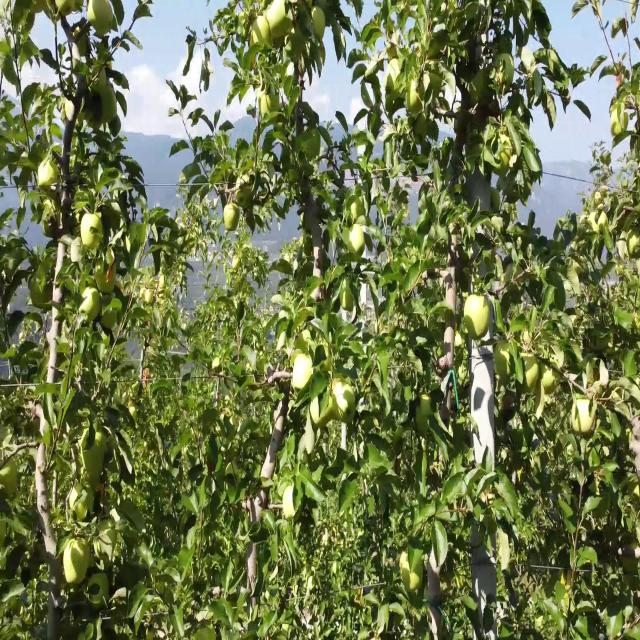apple: (80, 430, 105, 474), (63, 540, 89, 582), (465, 295, 490, 336), (267, 0, 292, 37), (399, 550, 422, 590), (333, 382, 356, 422), (69, 484, 93, 520), (572, 398, 595, 433), (494, 53, 514, 92), (80, 287, 100, 325), (97, 85, 118, 121), (88, 0, 112, 30), (248, 17, 270, 48), (292, 356, 312, 390), (519, 354, 537, 391), (82, 213, 101, 248), (0, 458, 18, 494), (405, 79, 424, 113), (283, 488, 303, 520), (42, 199, 60, 234), (415, 394, 432, 431), (258, 91, 278, 122), (495, 136, 511, 174), (95, 524, 115, 554), (387, 59, 405, 92), (346, 225, 366, 254), (495, 342, 512, 376), (610, 103, 628, 135), (37, 162, 59, 188), (311, 398, 331, 426), (339, 278, 354, 311), (310, 8, 326, 38), (542, 363, 559, 391), (65, 99, 83, 125), (32, 283, 49, 308), (625, 228, 640, 256), (96, 269, 116, 290), (224, 204, 239, 230), (56, 0, 75, 16), (237, 188, 250, 205)
